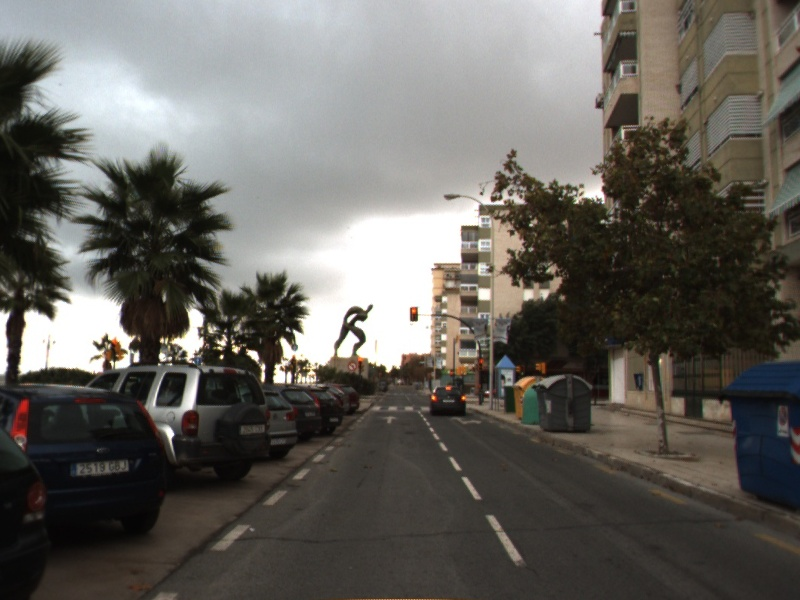STRAIGHT: (380, 414, 399, 425)
STRAIGHT_RIGHT: (448, 414, 484, 426)
